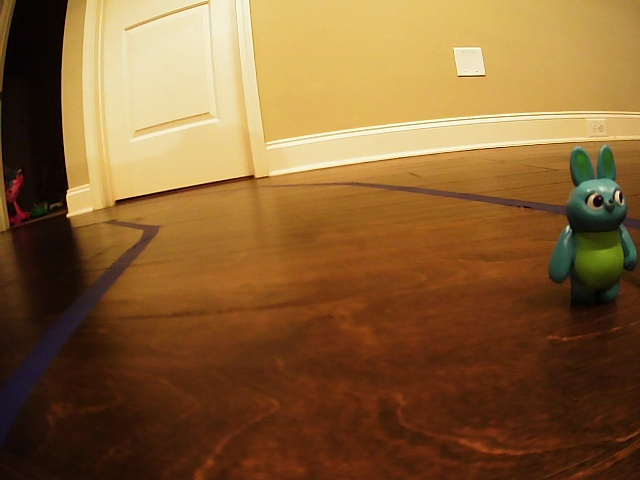toy: (543, 145, 639, 331)
